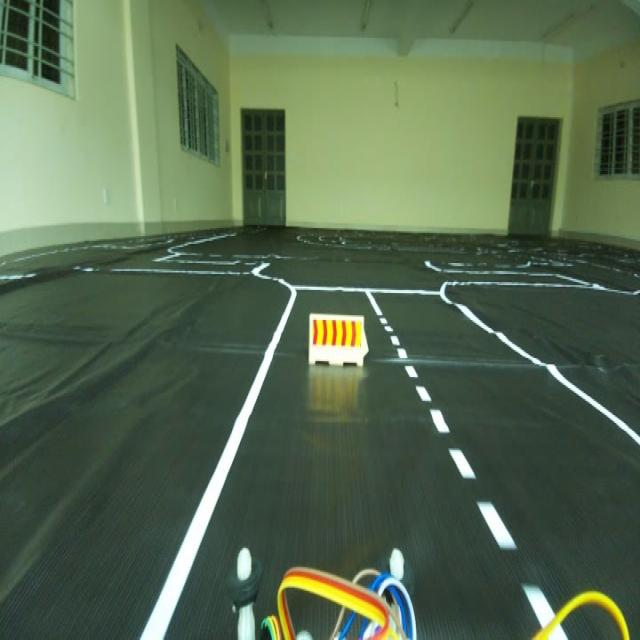roadblock: (306, 307, 374, 381)
